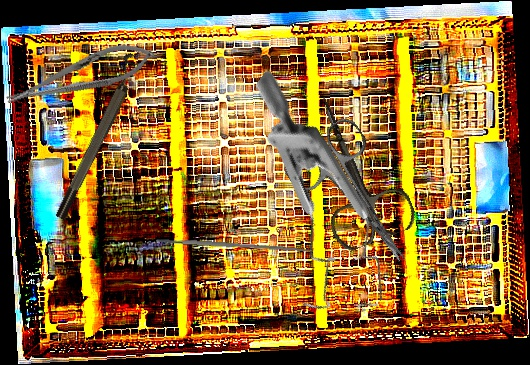Fixation Ring: (45, 51, 149, 222)
Iris Scissors: (277, 113, 436, 287), (286, 81, 420, 255)
Needle Holder: (0, 33, 160, 118)
Scalpel Handle: (155, 236, 311, 254)
Speculum: (167, 69, 451, 341)
